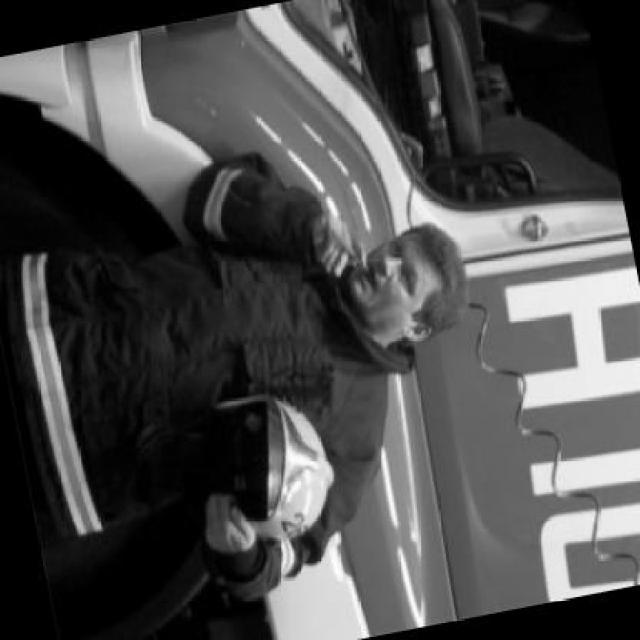cigarette: (326, 221, 363, 276)
